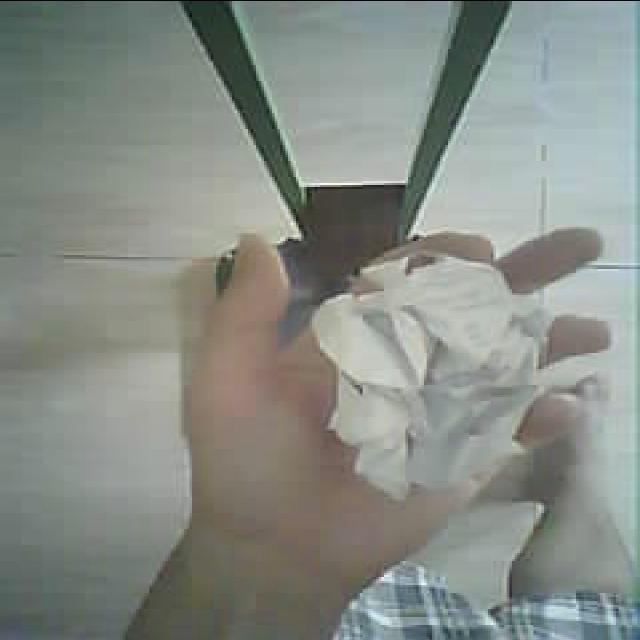Paper: (304, 227, 554, 509)
